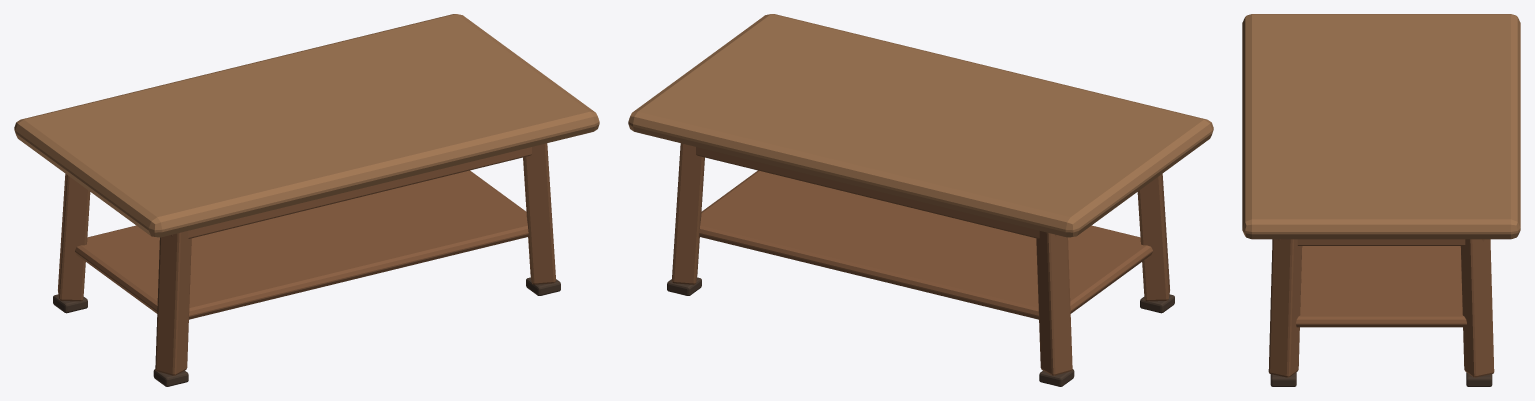
The model's file is coffee_table.glb.
The picture shows the model from 3 angles, left to right: view 1: azimuth 30°, elevation 25°; view 2: azimuth 150°, elevation 25°; view 3: azimuth 270°, elevation 25°; orthographic projection. The views are drawn at different scales.
Visible parts, largest first — view 1: Rounded rectangular tabletop, Lower storage shelf, Solid wooden table leg, Solid wooden table leg.002, Long tabletop apron, Solid wooden table leg.001; view 2: Rounded rectangular tabletop, Lower storage shelf, Solid wooden table leg.001, Solid wooden table leg.003, Long tabletop apron.001, Solid wooden table leg; view 3: Rounded rectangular tabletop, Lower storage shelf, Solid wooden table leg.002, Solid wooden table leg.003, Short tabletop apron.001, Protective foot pad.002, Protective foot pad.003.
Part boxes in pixels (x1,y1,x2,y2): Rounded rectangular tabletop: (14, 14, 599, 237); Lower storage shelf: (75, 170, 528, 319); Solid wooden table leg: (155, 231, 191, 375); Solid wooden table leg.002: (523, 143, 555, 284); Long tabletop apron: (171, 147, 531, 238); Solid wooden table leg.001: (58, 174, 90, 301); Rounded rectangular tabletop: (628, 14, 1213, 237); Lower storage shelf: (699, 170, 1152, 319); Solid wooden table leg.001: (1036, 231, 1072, 375); Solid wooden table leg.003: (672, 143, 704, 284); Long tabletop apron.001: (696, 147, 1056, 238); Solid wooden table leg: (1137, 174, 1169, 301); Rounded rectangular tabletop: (1242, 14, 1520, 239); Lower storage shelf: (1296, 246, 1466, 327); Solid wooden table leg.002: (1268, 239, 1302, 377); Solid wooden table leg.003: (1460, 239, 1494, 377); Short tabletop apron.001: (1297, 239, 1465, 245); Protective foot pad.002: (1270, 372, 1296, 386); Protective foot pad.003: (1466, 372, 1492, 386).
Bounding box in the file's own units: 1.16 × 0.45 × 0.64.
